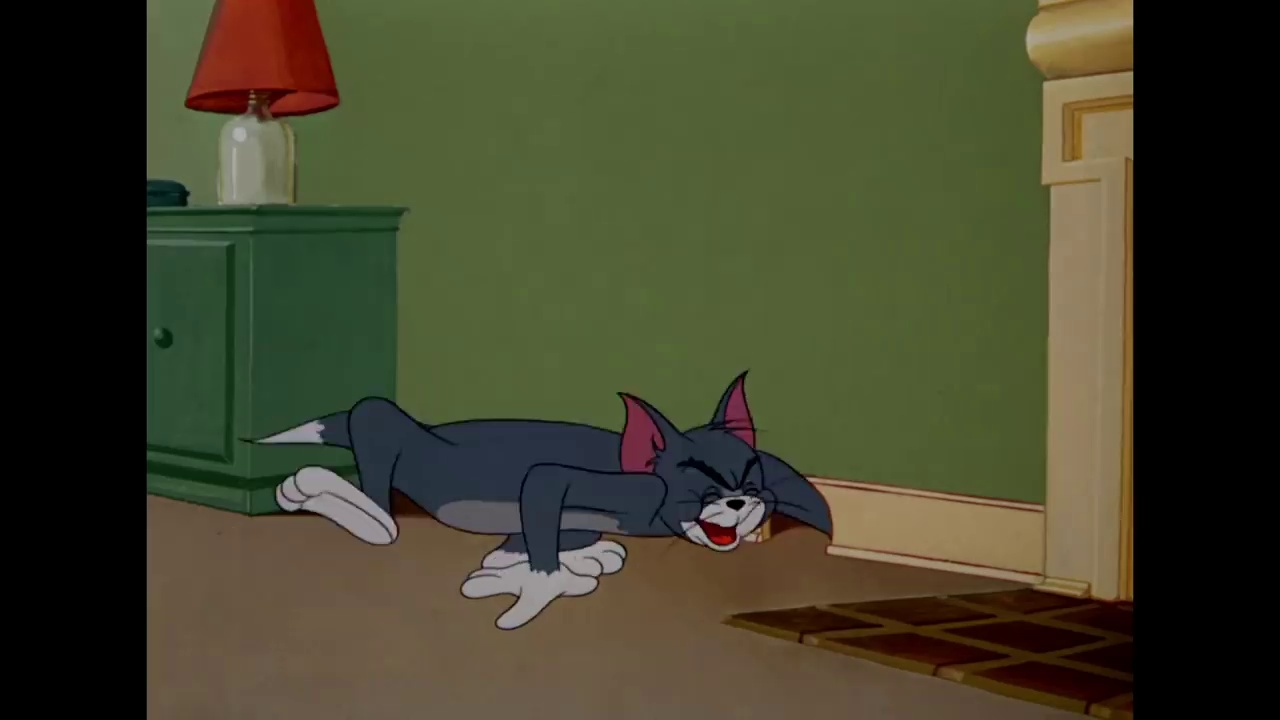tom: (608, 369, 776, 550)
